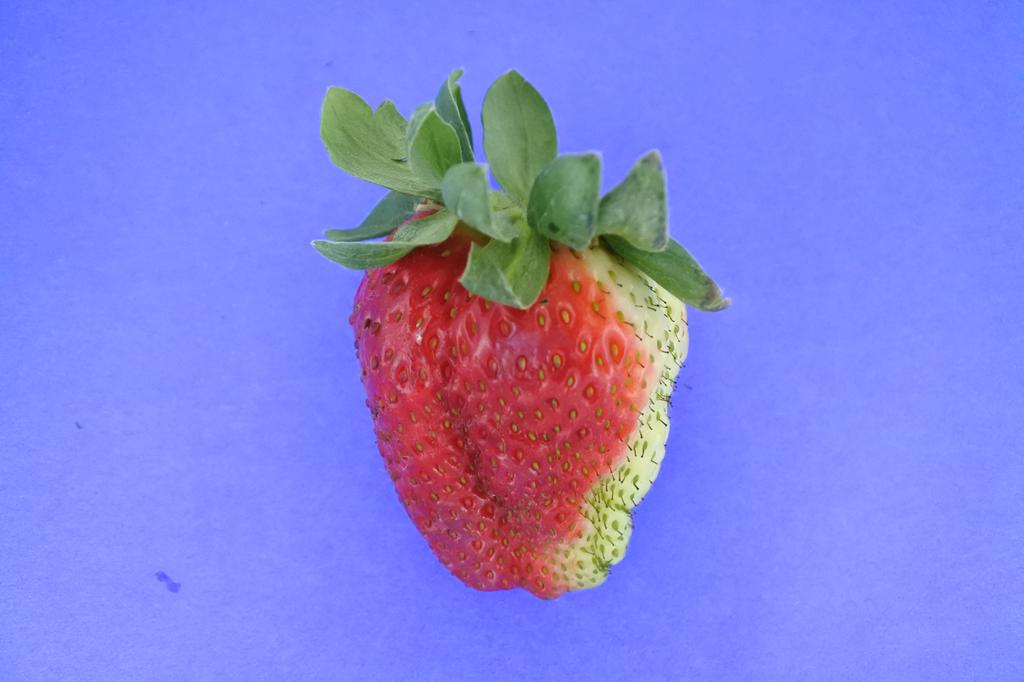red strawberry: (310, 67, 725, 603)
